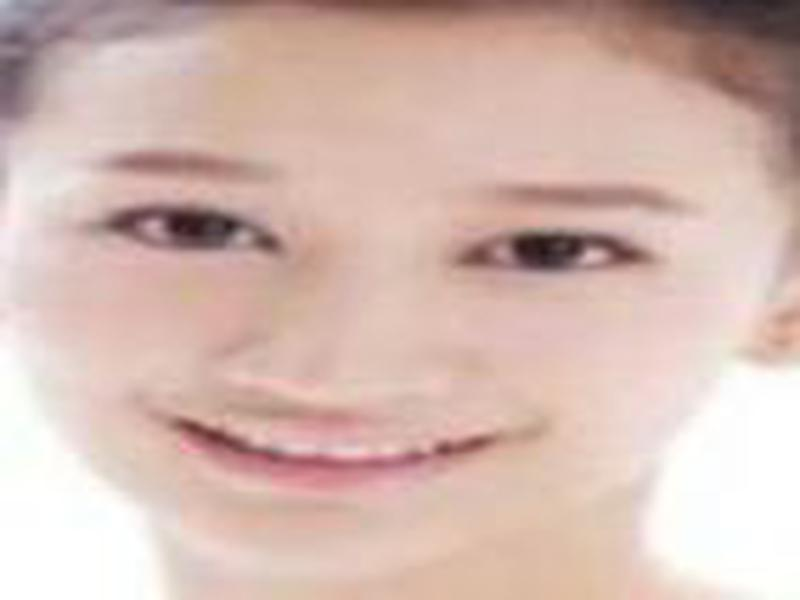without_mask: (31, 25, 759, 585)
